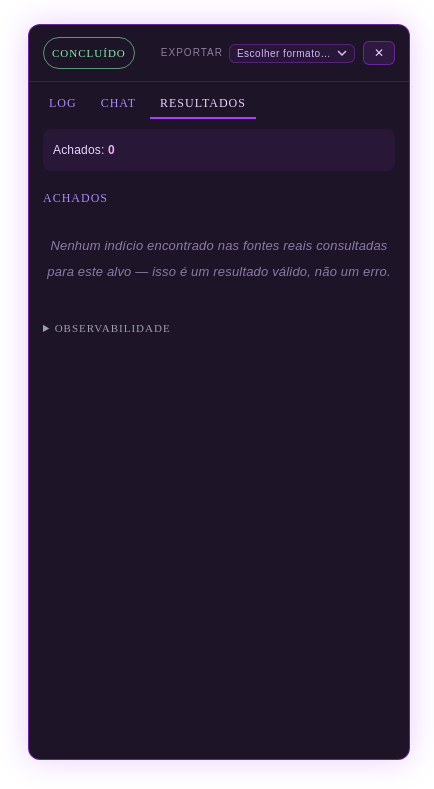
RunPanel › mostra o log derivado do history (etapas e raciocínio)
Click the button "Log".
click(63, 105)  # box 39,90 -> 87,119
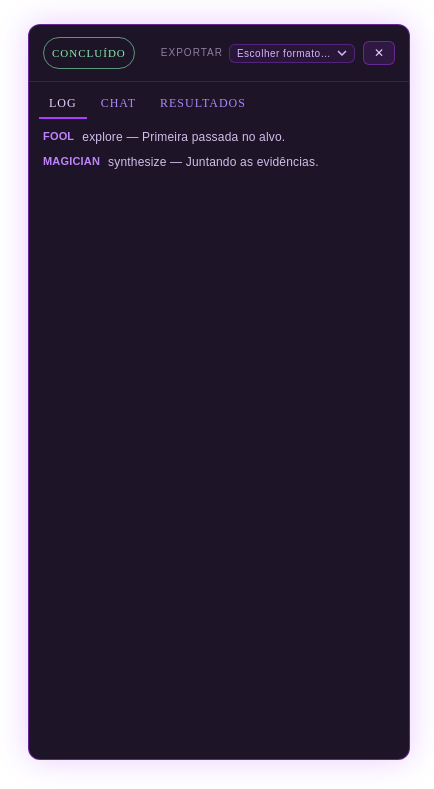
Check: the text "fool" is shown, box 43,129 -> 74,146
Check: the text "explore — Primeira passada no alvo." is shown, box 82,129 -> 285,146
Check: the text "magician" is shown, box 43,154 -> 100,171
